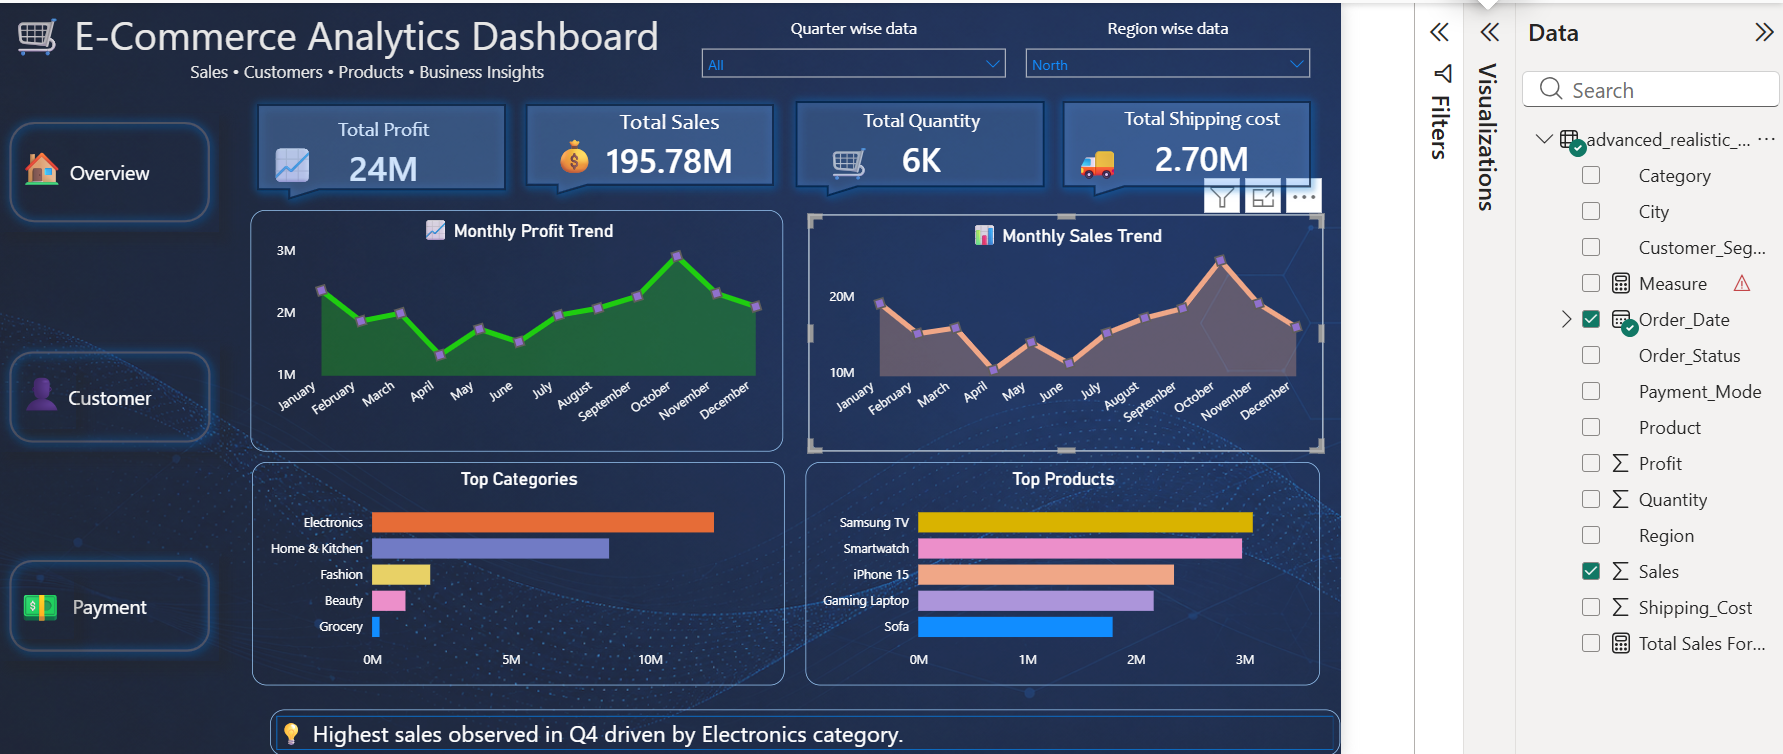

Layout of this report page (visuals, bound fields, positions):
{"tool":"powerbi","page":{"name":"Page 1","canvas":[1280,720],"ordinal":0},"visuals":[{"type":"textbox","box":[0,0,639.4,81.1],"z":0},{"type":"cardVisual","title":"Total Profit","fields":{"Data":["Sum(advanced_realistic_ecommerce_dataset.Profit)"]},"box":[272.5,108.2,188.7,70],"z":1000},{"type":"textbox","box":[12.7,128.8,60.4,52.5],"z":2000},{"type":"textbox","box":[251.5,125.7,65.2,62],"z":3000},{"type":"shape","box":[237,87.5,255.9,109.8],"z":4000},{"type":"shape","box":[492.4,87.5,255.4,105],"z":5000},{"type":"textbox","box":[521.7,117.7,57.3,60.4],"z":7000},{"type":"textbox","box":[784.2,124.1,74.8,62],"z":8000},{"type":"shape","box":[1005.1,84.3,255.4,109.8],"z":12000},{"type":"shape","box":[750.8,84.3,256.1,109.8],"z":14000},{"type":"slicer","title":"Quarter wise data","fields":{"Values":["advanced_realistic_ecommerce_dataset.Order_Date.Variation.Date Hierarchy.Quarter"]},"box":[660.1,14.3,310.2,70],"z":16000},{"type":"slicer","title":"Region wise data","fields":{"Values":["advanced_realistic_ecommerce_dataset.Region"]},"box":[970.3,14.3,291.1,66.8],"z":17000},{"type":"textbox","box":[1021.8,123.9,65.2,52.5],"z":18000},{"type":"cardVisual","title":"Total Shipping cost","fields":{"Data":["Sum(advanced_realistic_ecommerce_dataset.Shipping_Cost)"]},"box":[1054.6,98.6,187.7,71.6],"z":19000},{"type":"cardVisual","title":"Total Quantity","fields":{"Data":["Sum(advanced_realistic_ecommerce_dataset.Quantity)"]},"box":[785.8,100.2,187.7,70],"z":20000},{"type":"actionButton","box":[0,323.7,210,105],"z":21000,"group":"g1"},{"type":"actionButton","box":[0,522.9,209.5,105.6],"z":21000},{"type":"actionButton","box":[0,103.9,209.5,113.8],"z":22000},{"type":"group","id":"g1","title":"Group 1","box":[0,323.7,210.6,104.6],"z":24000},{"type":"textbox","box":[13.2,344.7,59.4,61],"z":24000,"group":"g1"},{"type":"textbox","box":[11.1,545.6,59.4,61],"z":24000,"group":"g2"},{"type":"ribbonChart","title":"Profit  Vs Avg. Sales","fields":{"Category":["advanced_realistic_ecommerce_dataset.Profit"],"Y":["Avg(advanced_realistic_ecommerce_dataset.Sales)"]},"box":[240.8,442.1,508,260.6],"z":25000},{"type":"clusteredBarChart","title":"Total Profit from Payment method","fields":{"Category":["advanced_realistic_ecommerce_dataset.Payment_Mode"],"Y":["Sum(advanced_realistic_ecommerce_dataset.Profit)"]},"box":[237,197.2,509,230.6],"z":28000},{"type":"donutChart","title":"Average Order Quantity","fields":{"Category":["advanced_realistic_ecommerce_dataset.Payment_Mode"],"Y":["Avg(advanced_realistic_ecommerce_dataset.Quantity)"]},"box":[768.3,197.2,491.5,227.5],"z":29000},{"type":"lineChart","title":"Profit vs avg. Shipping Cost","fields":{"Category":["advanced_realistic_ecommerce_dataset.Profit"],"Y":["Avg(advanced_realistic_ecommerce_dataset.Shipping_Cost)"]},"box":[768.7,442.1,491.5,260.6],"z":30000},{"type":"group","id":"g2","title":"Group 1","box":[11.1,545.6,60.4,62],"z":32000},{"type":"cardVisual","title":"Total Sales","fields":{"Data":["Sum(advanced_realistic_ecommerce_dataset.Sales)"]},"box":[545.6,100.2,187.7,70],"z":32001}]}

Visuals, with their boxes on the page's 1280x720 design canvas (x1, y1, x2, y2). These are canvas units, not pixel positions in the 1783x754 screenshot, which may show the page scaled, cropped or inside an application window:
textbox: (x1=0, y1=0, x2=639, y2=81)
"Total Profit" cardVisual: (x1=272, y1=108, x2=461, y2=178)
textbox: (x1=13, y1=129, x2=73, y2=181)
textbox: (x1=252, y1=126, x2=317, y2=188)
shape: (x1=237, y1=88, x2=493, y2=197)
shape: (x1=492, y1=88, x2=748, y2=192)
textbox: (x1=522, y1=118, x2=579, y2=178)
textbox: (x1=784, y1=124, x2=859, y2=186)
shape: (x1=1005, y1=84, x2=1260, y2=194)
shape: (x1=751, y1=84, x2=1007, y2=194)
"Quarter wise data" slicer: (x1=660, y1=14, x2=970, y2=84)
"Region wise data" slicer: (x1=970, y1=14, x2=1261, y2=81)
textbox: (x1=1022, y1=124, x2=1087, y2=176)
"Total Shipping cost" cardVisual: (x1=1055, y1=99, x2=1242, y2=170)
"Total Quantity" cardVisual: (x1=786, y1=100, x2=974, y2=170)
actionButton: (x1=0, y1=324, x2=210, y2=429)
actionButton: (x1=0, y1=523, x2=210, y2=628)
actionButton: (x1=0, y1=104, x2=210, y2=218)
"Group 1" group: (x1=0, y1=324, x2=211, y2=428)
textbox: (x1=13, y1=345, x2=73, y2=406)
textbox: (x1=11, y1=546, x2=70, y2=607)
"Profit  Vs Avg. Sales" ribbonChart: (x1=241, y1=442, x2=749, y2=703)
"Total Profit from Payment method" clusteredBarChart: (x1=237, y1=197, x2=746, y2=428)
"Average Order Quantity" donutChart: (x1=768, y1=197, x2=1260, y2=425)
"Profit vs avg. Shipping Cost" lineChart: (x1=769, y1=442, x2=1260, y2=703)
"Group 1" group: (x1=11, y1=546, x2=72, y2=608)
"Total Sales" cardVisual: (x1=546, y1=100, x2=733, y2=170)
